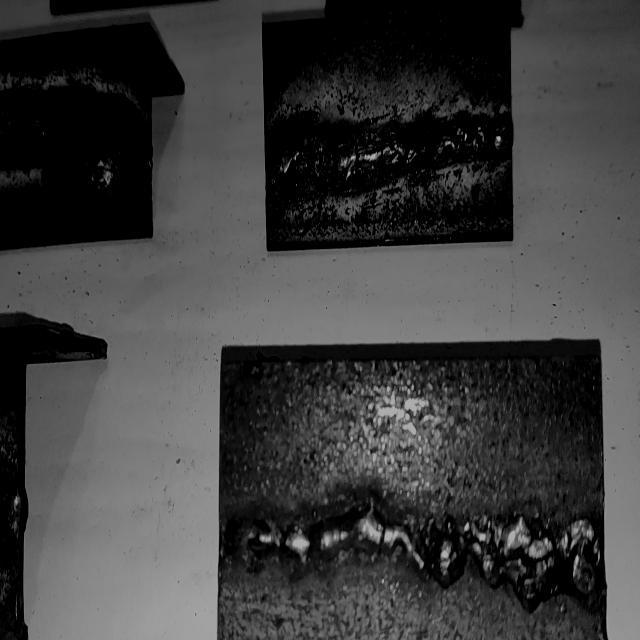Defect: (484, 488, 602, 626), (0, 108, 146, 190), (404, 104, 507, 200), (277, 106, 352, 202)
Welding Line: (228, 500, 601, 620), (271, 120, 508, 186)
Workpiece: (218, 360, 604, 640), (262, 22, 512, 249), (0, 27, 154, 251)
